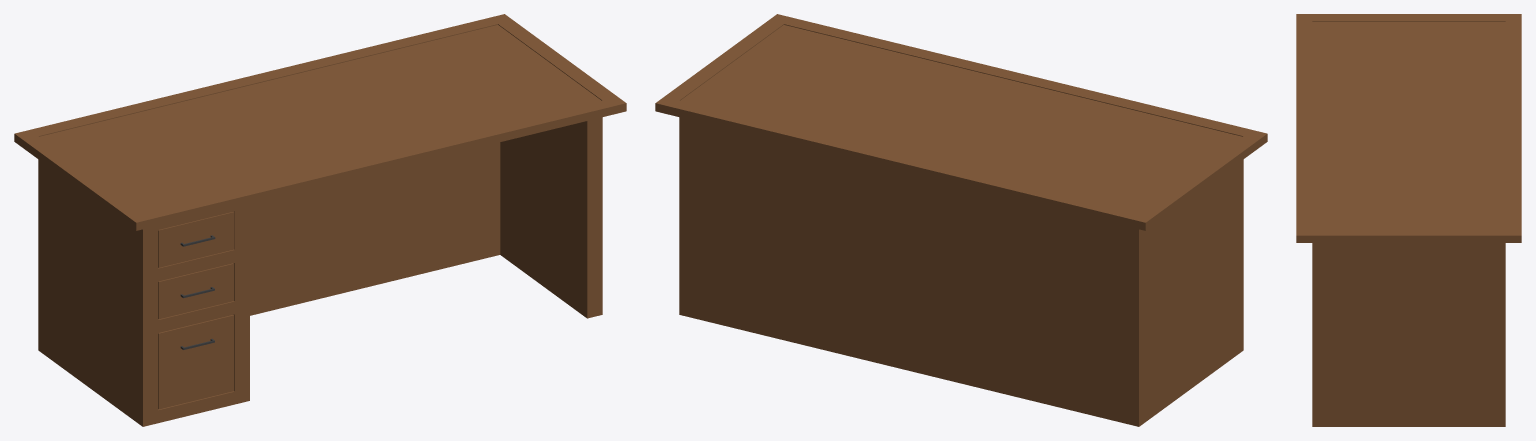
Rendered from Desk.fbx.
3 views of the same model, side by side, from view 1: azimuth 30°, elevation 25°; view 2: azimuth 150°, elevation 25°; view 3: azimuth 270°, elevation 25° (orthographic). The views are drawn at different scales.
Parts seen in each view (by area): view 1: Cube; view 2: Cube; view 3: Cube.
Part boxes in pixels (box(x1,y1,x2,y2)): Cube: box(14, 14, 626, 426); Cube: box(655, 14, 1267, 426); Cube: box(1296, 14, 1521, 426).
Size of the model in its own units: 955 by 399 by 411.
